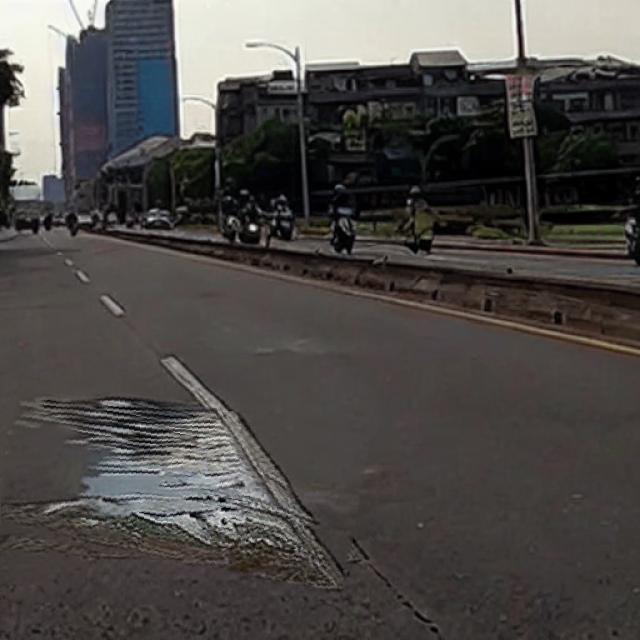puddle: (1, 390, 366, 579)
